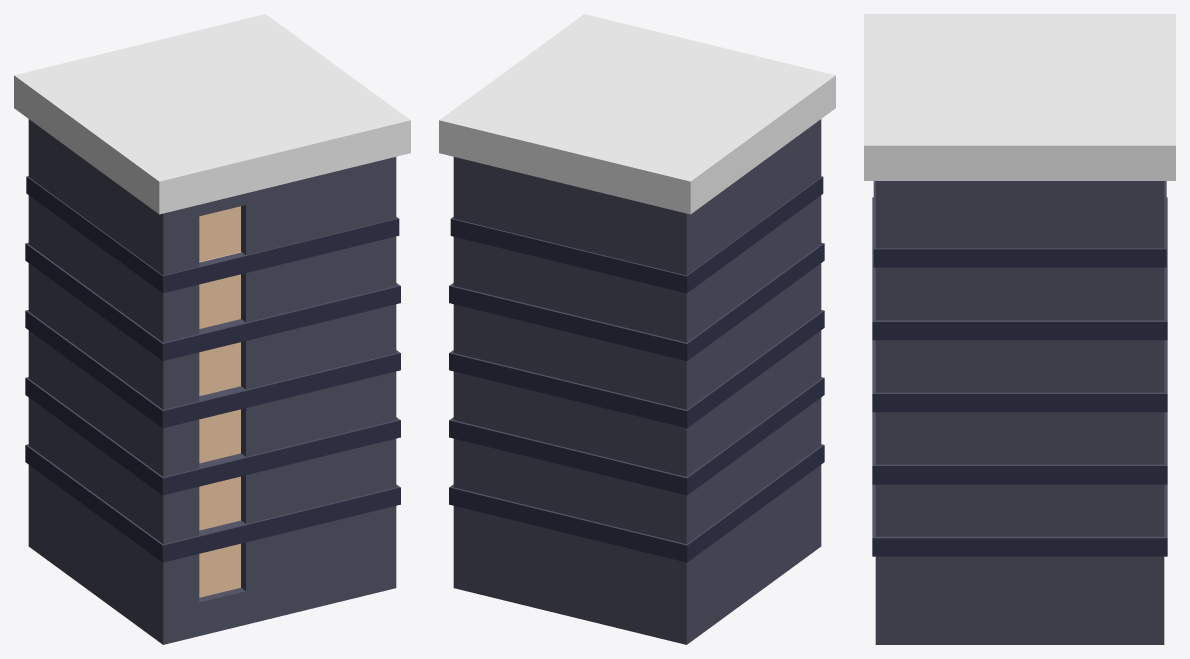
The picture shows the model from 3 angles, left to right: view 1: azimuth 30°, elevation 25°; view 2: azimuth 150°, elevation 25°; view 3: azimuth 270°, elevation 25°; orthographic projection. The views are drawn at different scales.
Visible parts, largest first — view 1: Cube.009; view 2: Cube.009; view 3: Cube.009.
Boxes of the visible parts, box(x1,y1,x2,y2) form: Cube.009: box(14, 14, 410, 644); Cube.009: box(439, 14, 835, 644); Cube.009: box(864, 14, 1175, 644).
Size of the model in its own units: 1369 by 2442 by 1369.
